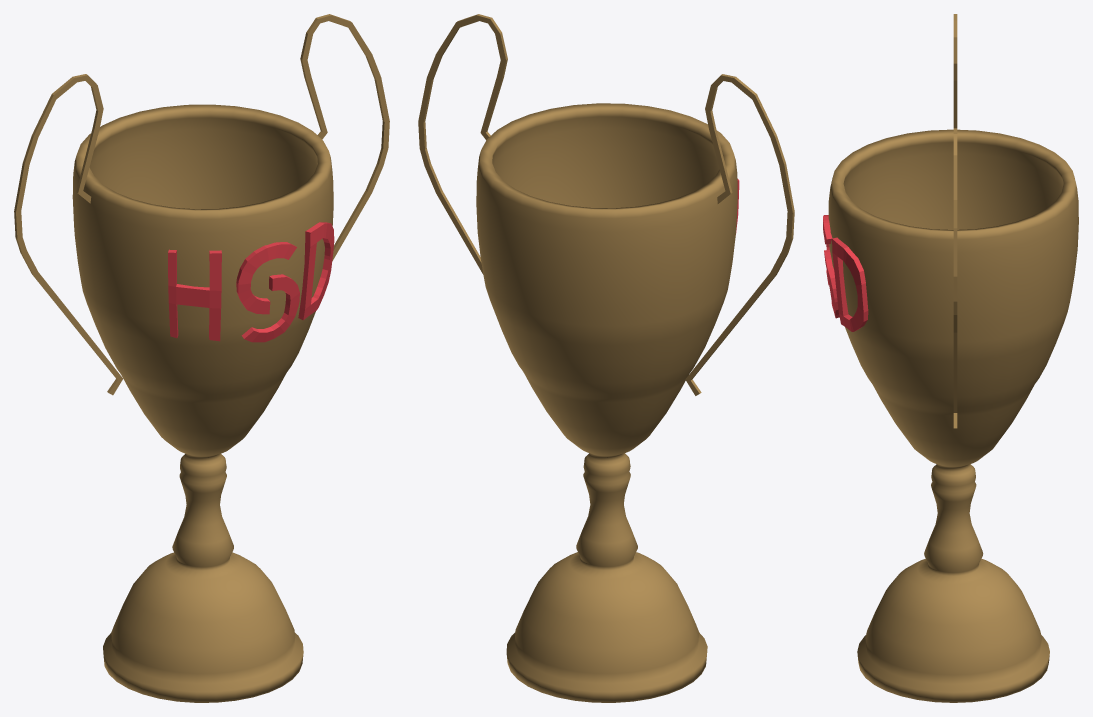
The model's file is pokal.glb.
The picture shows the model from 3 angles, left to right: view 1: azimuth 30°, elevation 25°; view 2: azimuth 150°, elevation 25°; view 3: azimuth 270°, elevation 25°; orthographic projection. The views are drawn at different scales.
Visible parts, largest first — view 1: Plane.002, Plane; view 2: Plane.002; view 3: Plane.002, Plane.
Boxes of the visible parts, <box> form: Plane.002: <box>14,14,389,702</box>; Plane: <box>168,222,334,342</box>; Plane.002: <box>418,14,794,702</box>; Plane.002: <box>828,14,1078,702</box>; Plane: <box>823,215,868,331</box>.
Size of the model in its own units: 1.3 by 2.06 by 0.8063.
